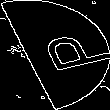P_W: (11, 29, 99, 81)
